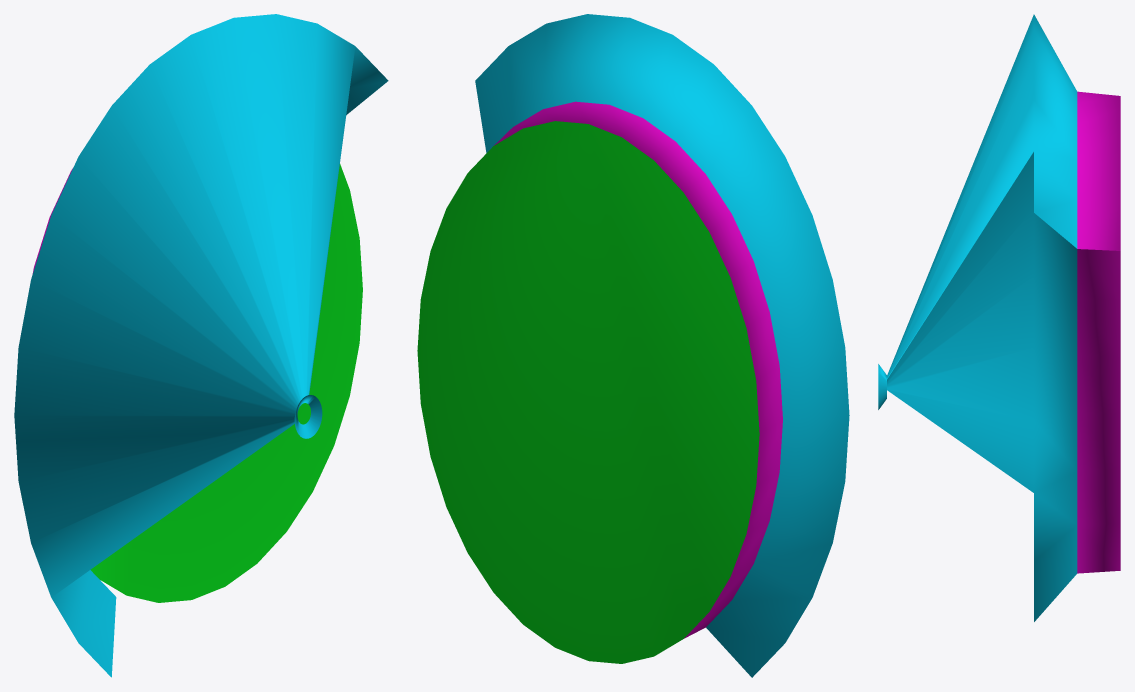
Rendered from chozaF.fbx.
3 renders of one model, left to right at view 1: azimuth 30°, elevation 25°; view 2: azimuth 150°, elevation 25°; view 3: azimuth 270°, elevation 25°, orthographic. The views are drawn at different scales.
Parts seen in each view (by area): view 1: Cylinder.002; view 2: Cylinder.002; view 3: Cylinder.002.
Boxes of the visible parts, box(x1,y1,x2,y2) form: Cylinder.002: box(14, 14, 388, 677); Cylinder.002: box(417, 14, 849, 677); Cylinder.002: box(878, 14, 1120, 621).
Size of the model in its own units: 4.98 by 7.68 by 2.58.
